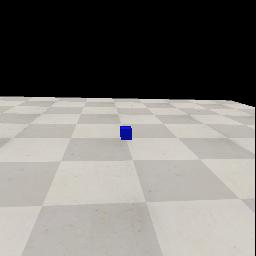box: (120, 126, 132, 140)
